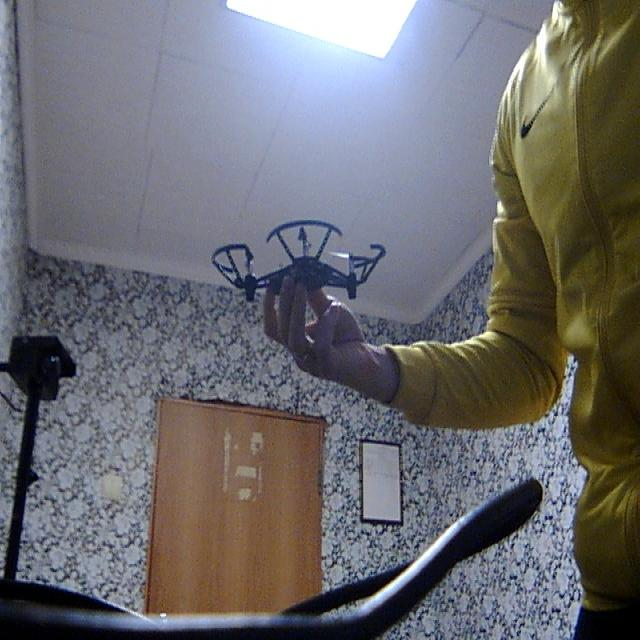drone: (201, 209, 388, 329)
